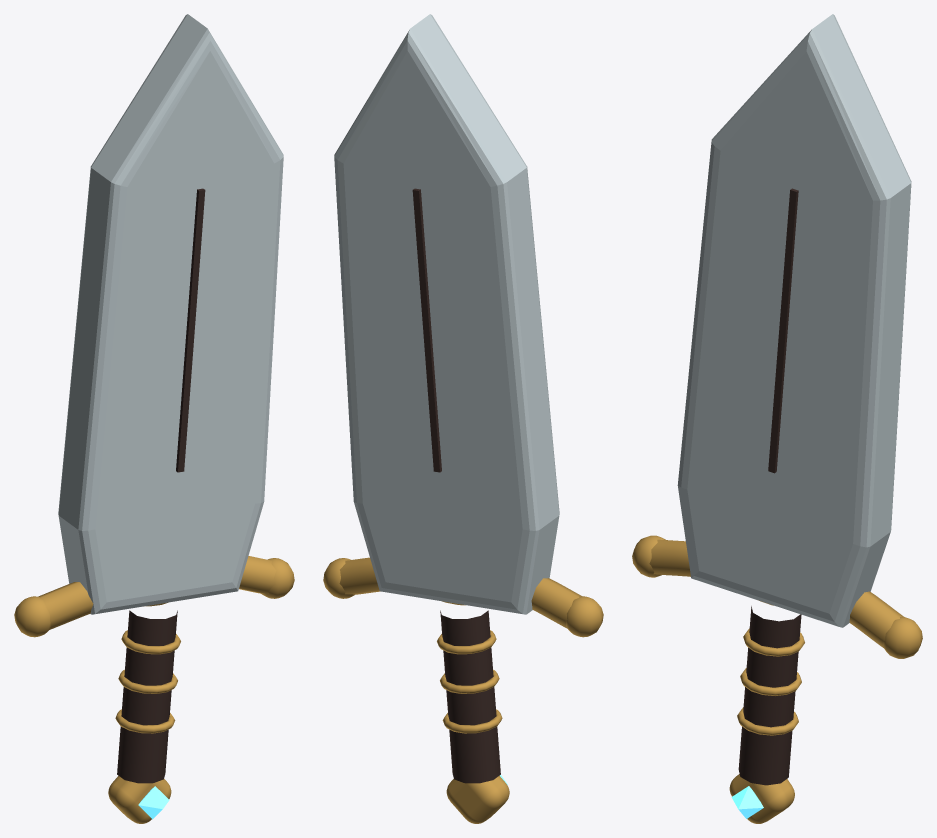
The model's file is weapon_greatsword.glb.
3 views of the same model, side by side, from view 1: azimuth 30°, elevation 25°; view 2: azimuth 150°, elevation 25°; view 3: azimuth 330°, elevation 25° (orthographic). The views are drawn at different scales.
Visible parts, largest first — view 1: blade_mesh, weapon_grip, weapon_guard, weapon_fuller_1, weapon_pommel, weapon_guard_cap_-1, weapon_guard_cap_1, weapon_trim_wrap_1, weapon_trim_wrap_2, weapon_trim_wrap_0, weapon_rune_pommel; view 2: blade_mesh, weapon_grip, weapon_guard, weapon_fuller_-1, weapon_pommel, weapon_guard_cap_-1, weapon_guard_cap_1, weapon_trim_wrap_1, weapon_trim_wrap_2, weapon_trim_wrap_0; view 3: blade_mesh, weapon_grip, weapon_guard, weapon_fuller_1, weapon_pommel, weapon_guard_cap_1, weapon_guard_cap_-1, weapon_trim_wrap_2, weapon_trim_wrap_1, weapon_trim_wrap_0, weapon_rune_pommel.
Part boxes in pixels (x1,y1,x2,y2): blade_mesh: (58, 14, 283, 614); weapon_grip: (117, 610, 177, 783); weapon_guard: (38, 556, 276, 629); weapon_fuller_1: (176, 188, 205, 472); weapon_pommel: (108, 776, 171, 823); weapon_guard_cap_-1: (14, 596, 50, 637); weapon_guard_cap_1: (261, 558, 294, 598); weapon_trim_wrap_1: (118, 669, 177, 693); weapon_trim_wrap_2: (115, 709, 175, 733); weapon_trim_wrap_0: (121, 630, 180, 654); weapon_rune_pommel: (138, 786, 169, 819); blade_mesh: (334, 14, 559, 614); weapon_grip: (440, 610, 500, 783); weapon_guard: (339, 557, 581, 628); weapon_fuller_-1: (412, 188, 441, 472); weapon_pommel: (446, 776, 509, 823); weapon_guard_cap_-1: (565, 596, 603, 637); weapon_guard_cap_1: (323, 558, 354, 598); weapon_trim_wrap_1: (440, 669, 499, 693); weapon_trim_wrap_2: (442, 709, 502, 733); weapon_trim_wrap_0: (437, 630, 496, 654); blade_mesh: (677, 14, 911, 627); weapon_grip: (738, 606, 801, 785); weapon_guard: (649, 539, 903, 647); weapon_fuller_1: (768, 188, 798, 473); weapon_pommel: (729, 774, 794, 823); weapon_guard_cap_1: (882, 617, 922, 658); weapon_guard_cap_-1: (632, 535, 665, 577); weapon_trim_wrap_2: (737, 707, 798, 735); weapon_trim_wrap_1: (740, 668, 801, 695); weapon_trim_wrap_0: (743, 628, 804, 656); weapon_rune_pommel: (731, 786, 763, 818).
Bounding box in the file's own units: 0.9609 × 2.62 × 0.238.
